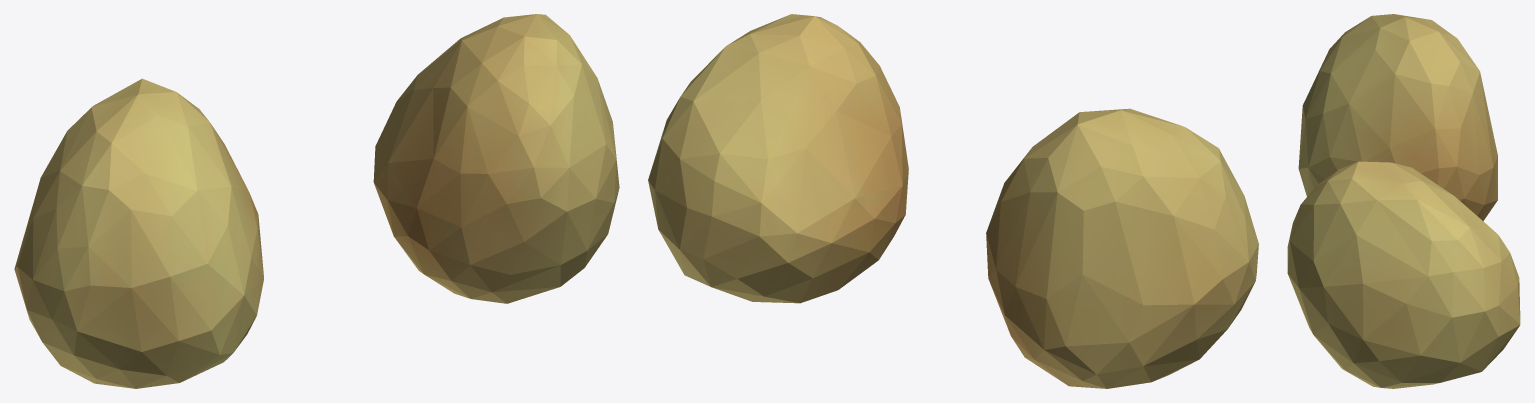
File: node_lymph_colic_middle_LP.glb
The picture shows the model from 3 angles, left to right: view 1: azimuth 30°, elevation 25°; view 2: azimuth 150°, elevation 25°; view 3: azimuth 270°, elevation 25°; orthographic projection. The views are drawn at different scales.
Visible parts, largest first — view 1: node_lymph_colic_middle_LP; view 2: node_lymph_colic_middle_LP; view 3: node_lymph_colic_middle_LP.
Part boxes in pixels (<box>): node_lymph_colic_middle_LP: <box>14,14,619,388</box>; node_lymph_colic_middle_LP: <box>648,14,1258,388</box>; node_lymph_colic_middle_LP: <box>1287,14,1520,388</box>.
Size of the model in its own units: 0.00043 by 0.000201 by 0.000186.
Materials: 1 (1 with a texture image).
